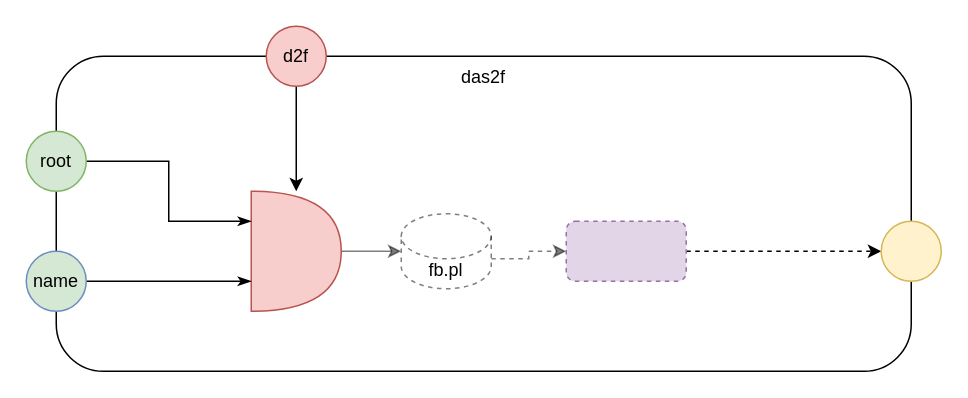
The diagram is 968 pixels wide and 398 high, and some of its shapes have lost their labels. Here are the shapes that lost their labels. From the top down, the centre of each, then its label:
At point 295,250: "@d2f".
At point 910,250: "fb".
